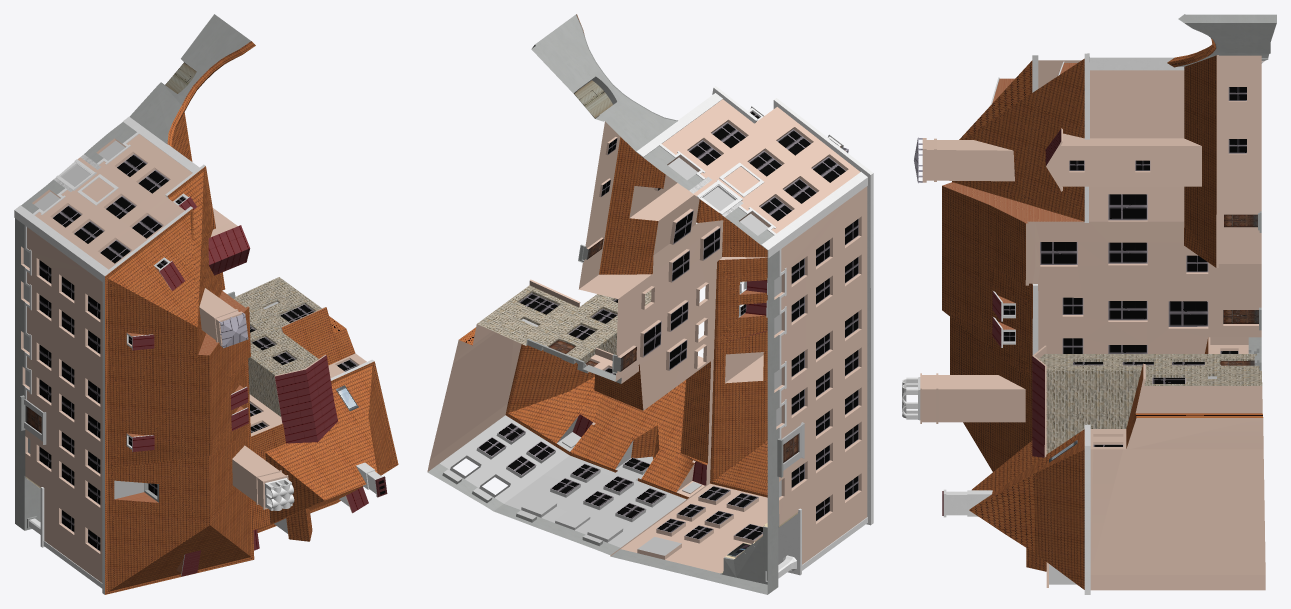
The model's file is Pikk_1.obj.
3 renders of one model, left to right at view 1: azimuth 30°, elevation 25°; view 2: azimuth 150°, elevation 25°; view 3: azimuth 270°, elevation 25°, orthographic. The views are drawn at different scales.
Parts seen in each view (by area): view 1: Pikk_1; view 2: Pikk_1; view 3: Pikk_1.
Part boxes in pixels (<box>): Pikk_1: <box>14,14,398,594</box>; Pikk_1: <box>427,14,873,594</box>; Pikk_1: <box>902,14,1276,594</box>.
Bounding box in the file's own units: 30.6 × 42.51 × 25.55.
